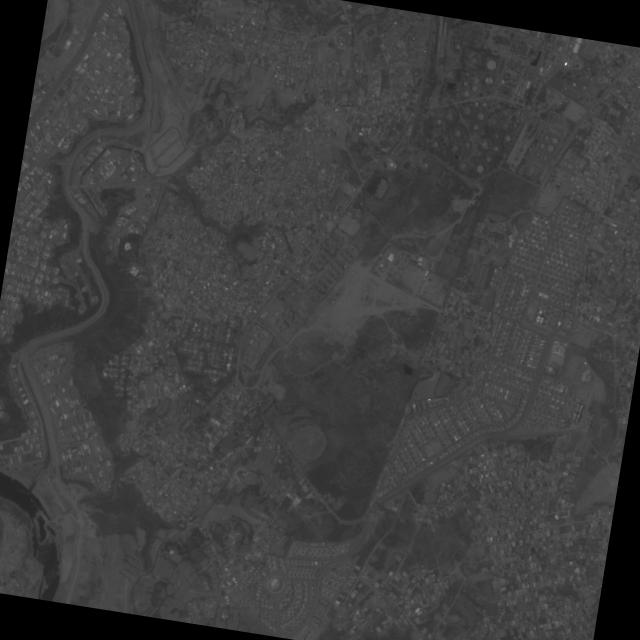storage-tank: (485, 58, 497, 70), (474, 163, 484, 173), (483, 74, 493, 84), (500, 121, 509, 130), (453, 128, 462, 137), (459, 161, 467, 170), (445, 111, 454, 119), (463, 105, 471, 114), (462, 88, 470, 97), (470, 55, 478, 64), (463, 140, 471, 148), (451, 143, 459, 151), (441, 134, 449, 142), (489, 117, 497, 125), (504, 134, 512, 142), (470, 84, 478, 92), (431, 140, 438, 148), (481, 140, 488, 147), (477, 112, 484, 119), (551, 136, 558, 143), (547, 144, 554, 151), (538, 141, 545, 148), (454, 42, 461, 49), (473, 76, 480, 83), (435, 118, 442, 124), (485, 155, 491, 162), (502, 110, 509, 116), (481, 100, 487, 106), (492, 145, 498, 151), (432, 128, 438, 134), (517, 146, 523, 152), (512, 155, 518, 161), (462, 80, 468, 86), (464, 70, 470, 76), (494, 133, 500, 138), (544, 134, 549, 140), (473, 100, 478, 106), (512, 122, 517, 128), (514, 117, 519, 123), (441, 149, 446, 154), (472, 135, 477, 140), (473, 124, 478, 129), (616, 122, 621, 127), (571, 81, 576, 86), (535, 151, 540, 156), (543, 154, 547, 160), (464, 34, 468, 39), (472, 38, 477, 42), (474, 132, 478, 136), (582, 85, 586, 89), (589, 77, 593, 81), (586, 66, 590, 70), (585, 74, 589, 78), (456, 30, 460, 34), (467, 26, 471, 30), (459, 32, 463, 36), (466, 30, 470, 34), (475, 71, 479, 75), (600, 115, 603, 119), (563, 86, 567, 89), (551, 114, 555, 117), (549, 121, 553, 124), (521, 42, 524, 46), (518, 41, 521, 45), (517, 47, 520, 51), (603, 110, 606, 113), (602, 112, 605, 115), (576, 94, 579, 97), (536, 133, 539, 136), (454, 49, 457, 52), (452, 49, 455, 52), (450, 39, 453, 42), (450, 37, 453, 40), (456, 39, 459, 42), (547, 120, 550, 123), (544, 124, 547, 127), (543, 128, 546, 131), (537, 136, 540, 139), (510, 47, 513, 50), (515, 41, 518, 44), (512, 40, 515, 43), (514, 45, 517, 48), (513, 47, 516, 50), (535, 135, 537, 138), (450, 43, 452, 46), (454, 38, 456, 41), (551, 118, 554, 120), (520, 49, 523, 51)
